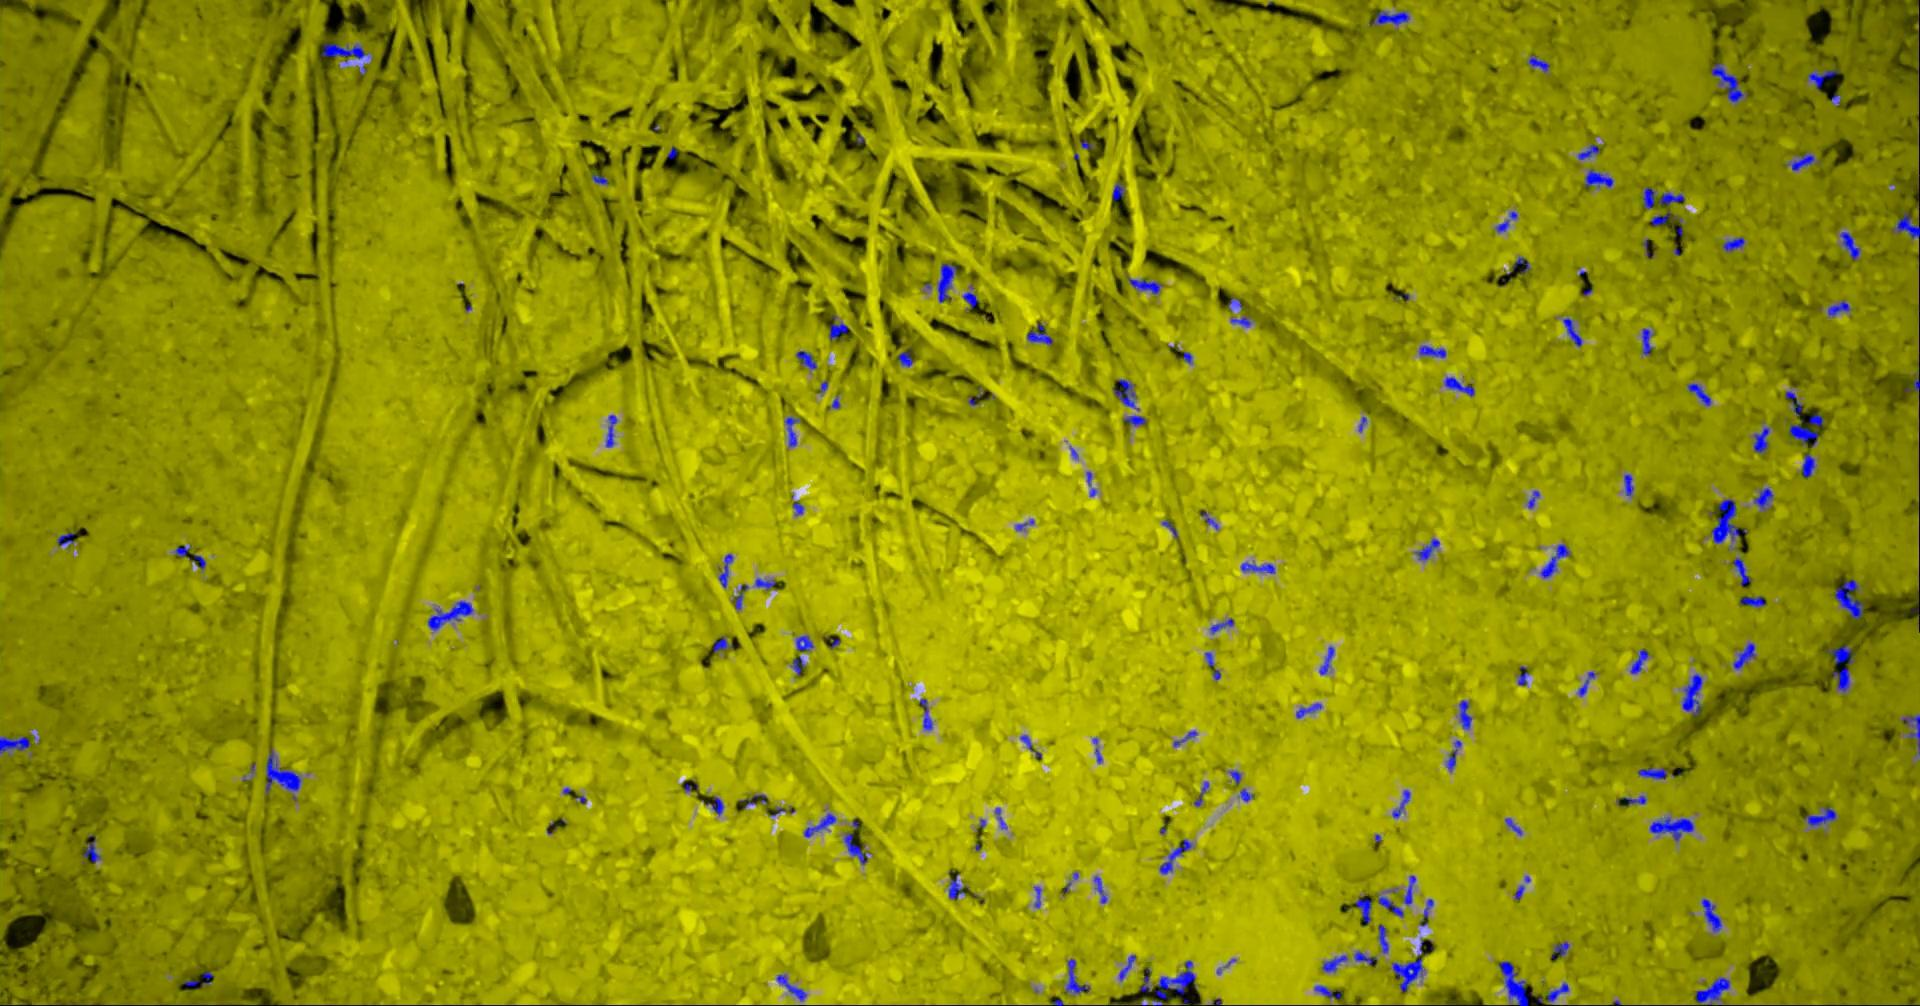ant: (1140, 960, 1195, 1005), (1390, 937, 1425, 991), (265, 748, 301, 793), (1710, 499, 1746, 542), (1498, 960, 1531, 1005), (427, 600, 472, 630), (1710, 64, 1746, 102), (1834, 578, 1863, 619), (1159, 840, 1191, 873), (1650, 815, 1693, 840), (1540, 542, 1570, 578), (1694, 977, 1730, 1005), (320, 43, 370, 62), (1065, 958, 1090, 993), (1681, 673, 1702, 715), (1112, 379, 1139, 410), (843, 831, 869, 864), (937, 263, 957, 302), (1650, 211, 1683, 235), (803, 813, 836, 837), (776, 974, 806, 1000), (1901, 714, 1919, 754), (1892, 211, 1919, 238), (1788, 423, 1817, 447), (1377, 890, 1403, 916), (1807, 69, 1839, 89), (1368, 10, 1410, 25), (1732, 641, 1755, 669), (1803, 807, 1836, 826), (1702, 898, 1721, 931), (1444, 376, 1474, 396), (1839, 231, 1859, 259), (1583, 168, 1613, 187), (1390, 789, 1410, 818), (1026, 323, 1051, 344), (1128, 277, 1161, 293), (1784, 152, 1815, 170), (0, 735, 30, 753), (1562, 318, 1581, 345), (1732, 558, 1751, 586), (1545, 982, 1568, 1005), (1415, 539, 1439, 560), (949, 873, 968, 899), (1354, 895, 1371, 923), (1495, 211, 1517, 232), (1688, 384, 1710, 405), (828, 315, 848, 339), (1829, 644, 1853, 664), (1629, 648, 1648, 673), (717, 553, 731, 587), (1117, 954, 1135, 981), (1752, 486, 1773, 509), (1318, 647, 1335, 674), (1784, 391, 1802, 417), (1446, 741, 1462, 770), (183, 970, 212, 986), (1752, 427, 1769, 453), (1321, 955, 1347, 972), (1827, 298, 1851, 316), (83, 838, 100, 862), (918, 699, 932, 729), (1578, 671, 1595, 696), (795, 351, 817, 370), (783, 417, 797, 446), (712, 636, 739, 652), (1637, 767, 1672, 779), (1832, 667, 1849, 691), (1172, 730, 1196, 747), (1239, 561, 1274, 573), (1295, 702, 1321, 718), (1192, 781, 1208, 807), (604, 414, 616, 447), (1313, 984, 1340, 998), (1458, 700, 1470, 729), (1402, 875, 1415, 904), (1528, 55, 1549, 71), (739, 794, 767, 807), (1093, 876, 1106, 903), (1420, 898, 1432, 925), (1801, 453, 1815, 478), (734, 584, 748, 608), (1209, 619, 1233, 633), (1352, 951, 1377, 965), (1377, 923, 1388, 953), (1577, 144, 1599, 159), (1658, 192, 1684, 205), (1503, 817, 1521, 835), (1161, 520, 1177, 539), (1550, 941, 1570, 958), (1641, 328, 1652, 354), (1418, 345, 1445, 357), (1738, 596, 1765, 607), (1641, 187, 1655, 208), (1722, 238, 1743, 251), (1511, 257, 1529, 273), (897, 348, 913, 366), (795, 635, 813, 652), (1903, 372, 1919, 391), (187, 554, 204, 569), (57, 531, 75, 545), (1086, 471, 1096, 495), (1622, 795, 1646, 805), (1111, 180, 1124, 199), (710, 796, 723, 815), (1123, 415, 1145, 426), (1623, 473, 1633, 495), (792, 655, 804, 676), (963, 291, 977, 307), (1237, 788, 1253, 801), (756, 578, 775, 589), (1528, 490, 1539, 508), (1808, 413, 1823, 426), (175, 545, 190, 558), (1517, 666, 1528, 685), (590, 173, 607, 184), (1230, 318, 1250, 326)
